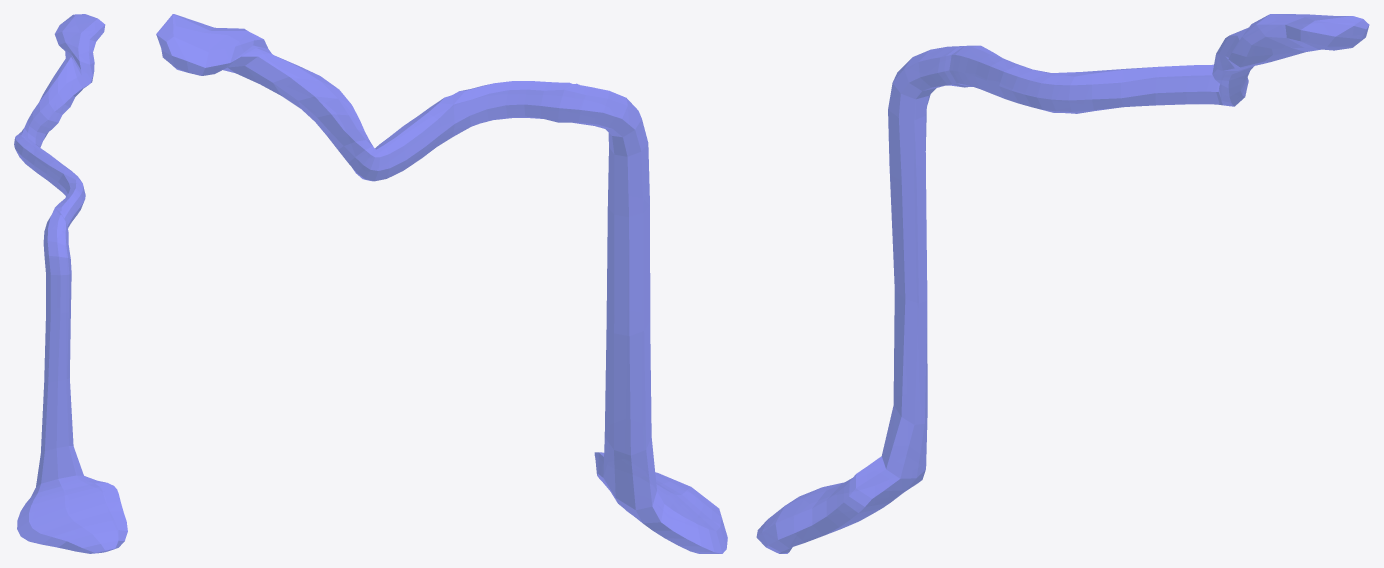
File: water.fbx
The picture shows the model from 3 angles, left to right: view 1: azimuth 30°, elevation 25°; view 2: azimuth 150°, elevation 25°; view 3: azimuth 270°, elevation 25°; orthographic projection. The views are drawn at different scales.
Visible parts, largest first — view 1: water; view 2: water; view 3: water.
Boxes of the visible parts, left/top/right/bottom form: water: left=14, top=14, right=127, bottom=553; water: left=156, top=14, right=727, bottom=553; water: left=756, top=14, right=1369, bottom=553.
Bounding box in the file's own units: 754 × 1322 × 1120.
